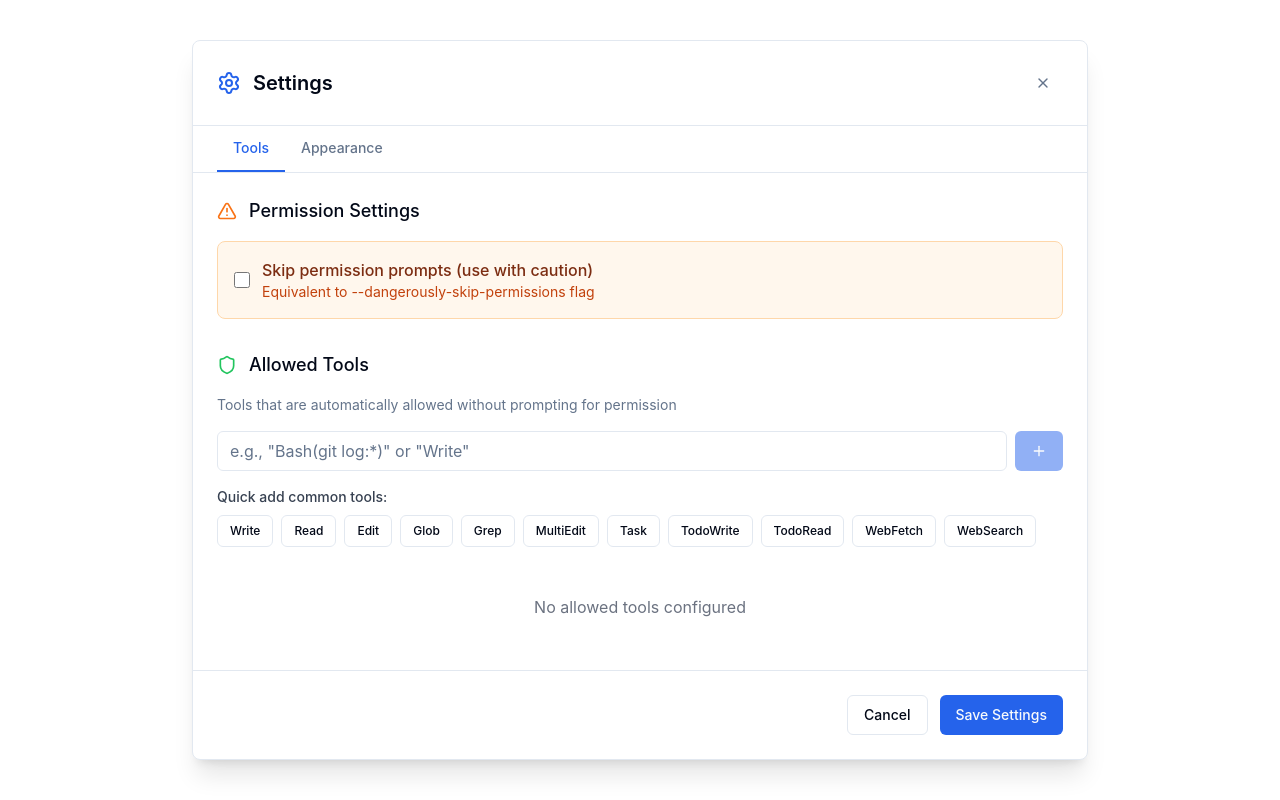
Test: Settings Component › Tab Navigation › should switch to Appearance tab when clicked
The image size is (1280, 800).
Click the button "Appearance" at (342, 149), box [285,126,399,172]
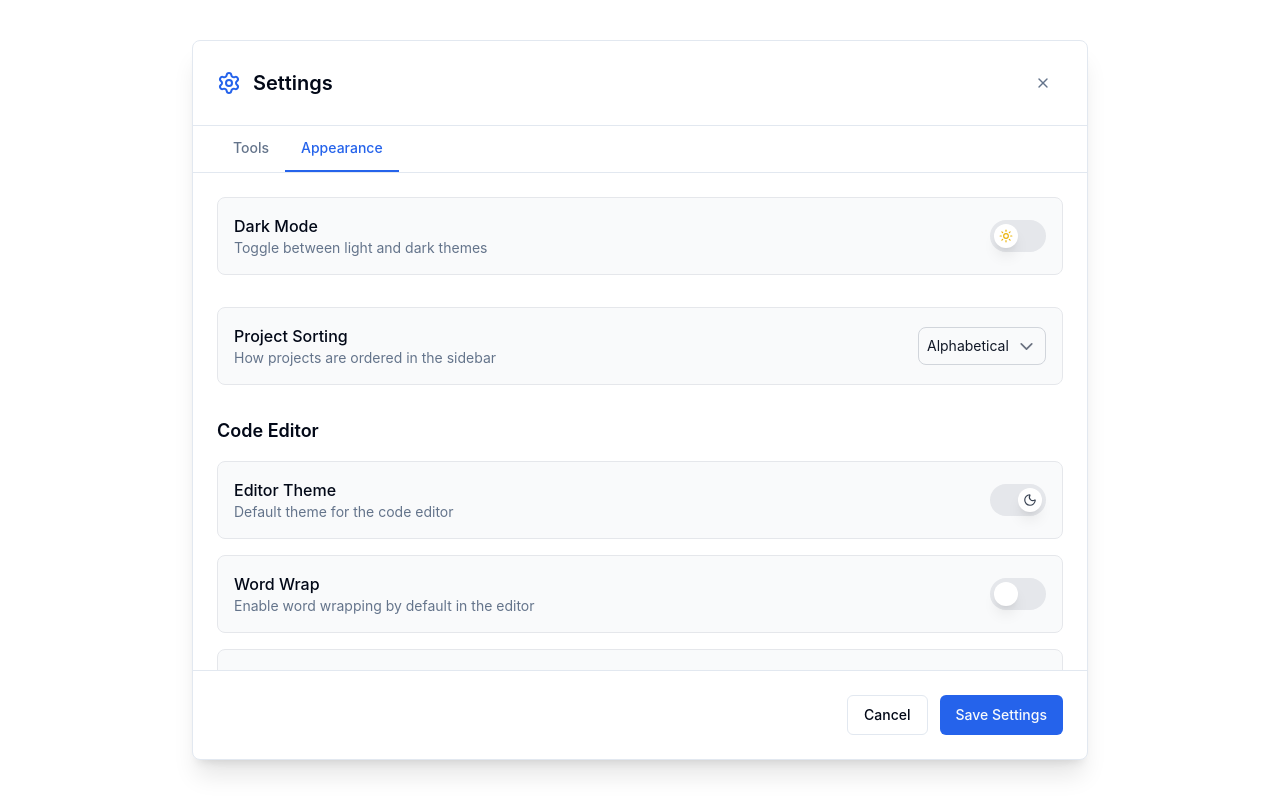
Now the text "Dark Mode" is shown, box [234,216,318,236]
